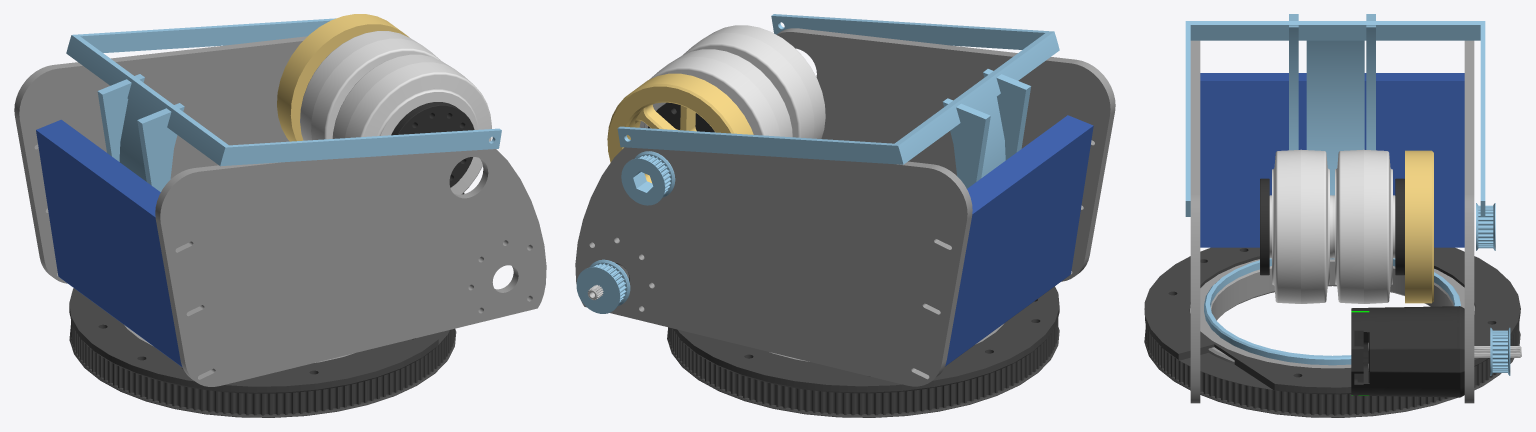
The picture shows the model from 3 angles, left to right: view 1: azimuth 30°, elevation 25°; view 2: azimuth 150°, elevation 25°; view 3: azimuth 270°, elevation 25°; orthographic projection. The views are drawn at different scales.
Visible parts, largest first — view 1: Side Plate (×2), Turret Bearing Pulley half (×2), TurretBacking, hood, 4" Colson Performa Wheel (1.5" WD, 1.1875" Bore) (×2), 4" Brass Flywheel (1/2" Triangle Bore), Shooter backplate (×2), Colson Dead Hub; view 2: Side Plate (×2), Turret Bearing Pulley half (×2), TurretBacking, hood, 4" Colson Performa Wheel (1.5" WD, 1.1875" Bore) (×2), 4" Brass Flywheel (1/2" Triangle Bore), Shooter backplate (×2), HTD-3mm-30T-Pulley (×2), Colson Dead Hub; view 3: TurretBacking, Turret Bearing Pulley half (×2), 4" Colson Performa Wheel (1.5" WD, 1.1875" Bore) (×2), hood, Kraken X60 Brushless Motor, Side Plate (×2), 4" Brass Flywheel (1/2" Triangle Bore), Turret Bearing, Shear Ring, Shooter backplate (×2), Colson Dead Hub (×2), HTD-3mm-30T-Pulley (×2) (+1 smaller).
Boxes of the visible parts, bbox=[...] form: Side Plate (×2): bbox=[14, 36, 546, 386]; Turret Bearing Pulley half (×2): bbox=[69, 288, 456, 417]; TurretBacking: bbox=[36, 119, 182, 367]; hood: bbox=[66, 18, 501, 181]; 4" Colson Performa Wheel (1.5" WD, 1.1875" Bore) (×2): bbox=[300, 31, 491, 194]; 4" Brass Flywheel (1/2" Triangle Bore): bbox=[277, 14, 409, 141]; Shooter backplate (×2): bbox=[97, 74, 184, 191]; Colson Dead Hub: bbox=[391, 102, 474, 187]; Side Plate (×2): bbox=[575, 28, 1115, 386]; Turret Bearing Pulley half (×2): bbox=[667, 286, 1059, 417]; TurretBacking: bbox=[945, 115, 1093, 366]; hood: bbox=[617, 14, 1059, 177]; 4" Colson Performa Wheel (1.5" WD, 1.1875" Bore) (×2): bbox=[639, 25, 825, 138]; 4" Brass Flywheel (1/2" Triangle Bore): bbox=[607, 73, 753, 182]; Shooter backplate (×2): bbox=[943, 69, 1030, 188]; HTD-3mm-30T-Pulley (×2): bbox=[576, 151, 675, 313]; Colson Dead Hub: bbox=[648, 102, 714, 132]; TurretBacking: bbox=[1200, 73, 1464, 247]; Turret Bearing Pulley half (×2): bbox=[1144, 247, 1520, 417]; 4" Colson Performa Wheel (1.5" WD, 1.1875" Bore) (×2): bbox=[1269, 149, 1395, 303]; hood: bbox=[1185, 21, 1485, 216]; Kraken X60 Brushless Motor: bbox=[1351, 306, 1521, 397]; Side Plate (×2): bbox=[1190, 40, 1474, 403]; 4" Brass Flywheel (1/2" Triangle Bore): bbox=[1405, 150, 1433, 303]; Turret Bearing: bbox=[1190, 259, 1474, 368]; Shear Ring: bbox=[1204, 258, 1460, 365]; Shooter backplate (×2): bbox=[1289, 14, 1375, 150]; Colson Dead Hub (×2): bbox=[1260, 178, 1404, 275]; HTD-3mm-30T-Pulley (×2): bbox=[1476, 203, 1510, 375].
Size of the model in its own units: 0.2892 by 0.194 by 0.2479.
